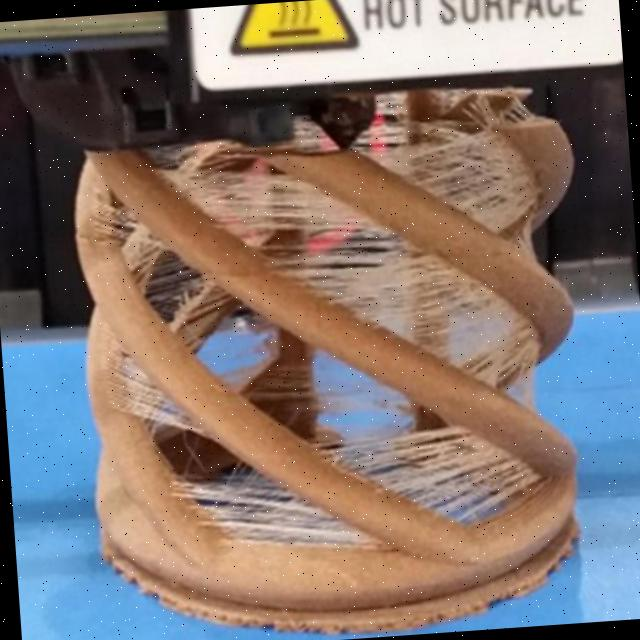stringing: (266, 228, 546, 420), (324, 415, 550, 529), (152, 145, 388, 254), (170, 451, 382, 560), (382, 114, 542, 243), (96, 318, 222, 452), (74, 182, 174, 270)
